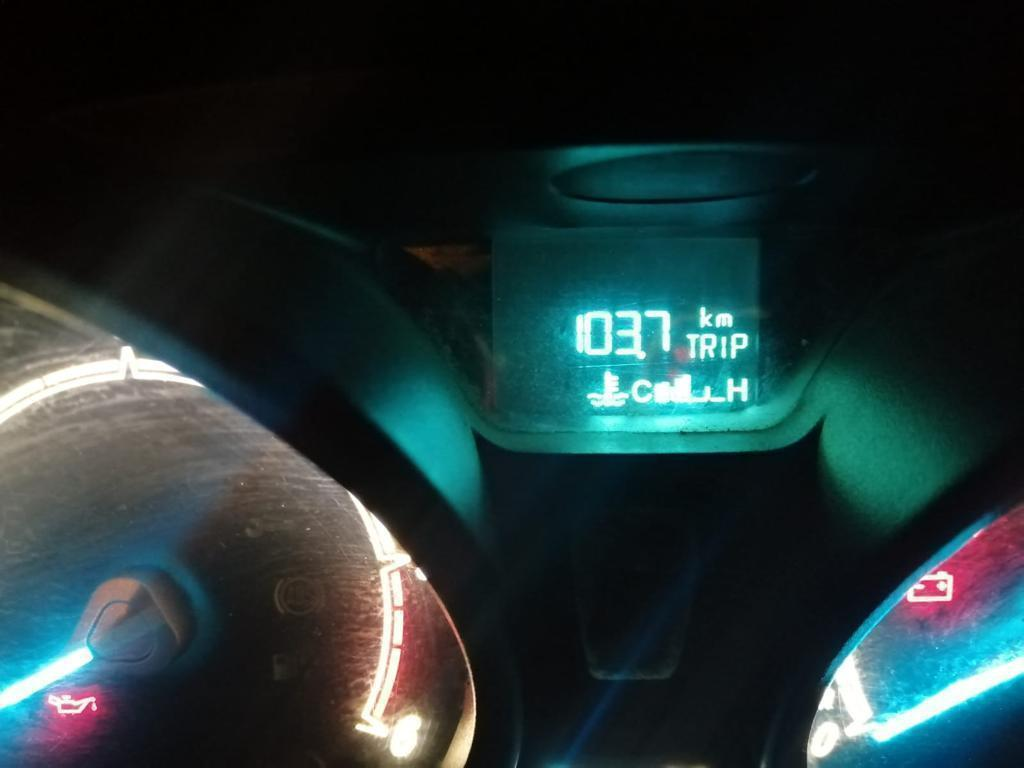,: (636, 350, 646, 360)
0: (584, 310, 612, 356)
1: (573, 311, 584, 354)
3: (614, 310, 641, 355)
7: (643, 309, 671, 352)
X: (726, 376, 749, 402), (630, 378, 652, 403), (729, 332, 749, 359), (699, 332, 717, 359), (697, 305, 713, 328), (685, 333, 699, 359), (714, 312, 733, 328), (718, 334, 728, 359)
odometer: (467, 221, 774, 449)
